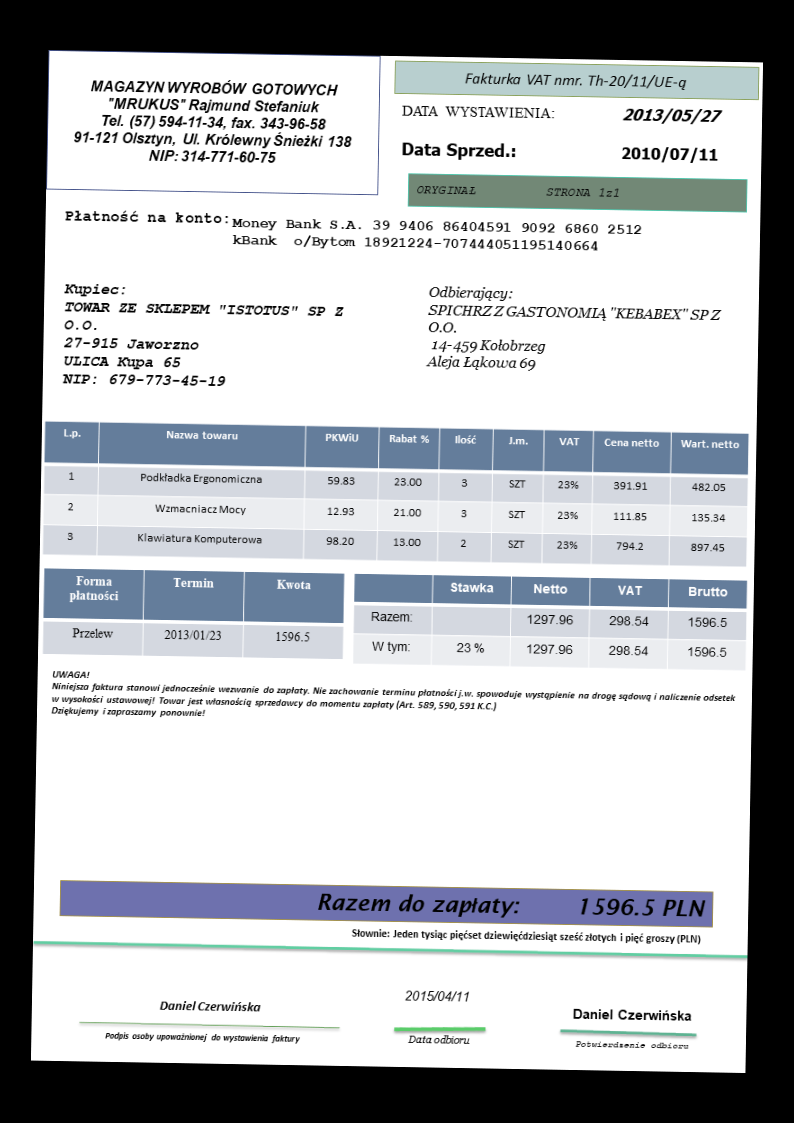Table: (41, 419, 754, 572), (352, 570, 749, 675), (42, 566, 346, 661)
TextBox: (46, 667, 738, 733), (59, 282, 348, 392), (424, 283, 724, 377), (68, 76, 359, 171), (231, 214, 644, 254), (312, 887, 709, 923), (347, 924, 704, 946), (460, 69, 690, 94), (415, 179, 623, 201), (398, 99, 557, 125), (101, 1028, 302, 1047), (60, 206, 233, 227), (399, 138, 519, 162), (569, 1005, 693, 1026), (616, 104, 725, 127), (617, 143, 721, 166), (570, 1037, 692, 1051), (156, 997, 262, 1013), (401, 987, 471, 1003), (406, 1033, 472, 1046)
